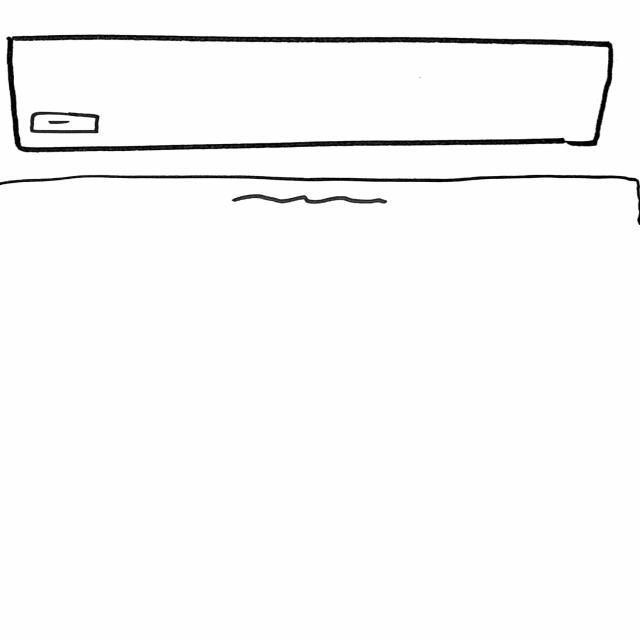container: (7, 34, 615, 152)
icon-button: (30, 110, 102, 136)
text: (229, 192, 393, 210)
